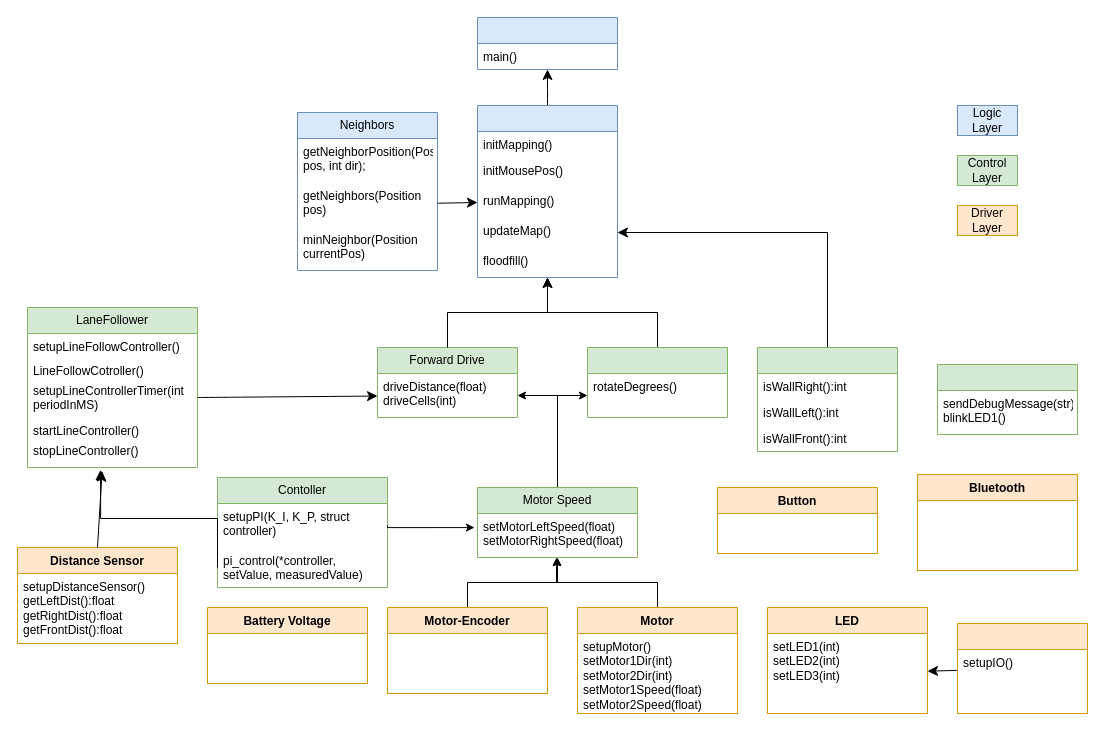
Some shapes in this 1105 by 734 pixel diagram are drawn without their labels. The shapes that lost their labels are listed below. From the top down, each one's box as (x1, y1, x2, y2) in pixels, then its label:
(476, 16, 618, 70): MouseLoop
(476, 104, 618, 278): Mapper
(586, 346, 728, 418): Rotate Drive
(756, 346, 898, 452): Wall detector
(936, 364, 1078, 434): Debugger
(716, 512, 878, 554): setupButton(*func)
(916, 500, 1078, 570): setupBT() connectBT() sendMessage(string)
(206, 632, 368, 684): getBatteryVoltage()
(386, 632, 548, 694): setupMotorEncoder() getCurPos():int getVelocity():float
(956, 622, 1088, 714): IOconfig
